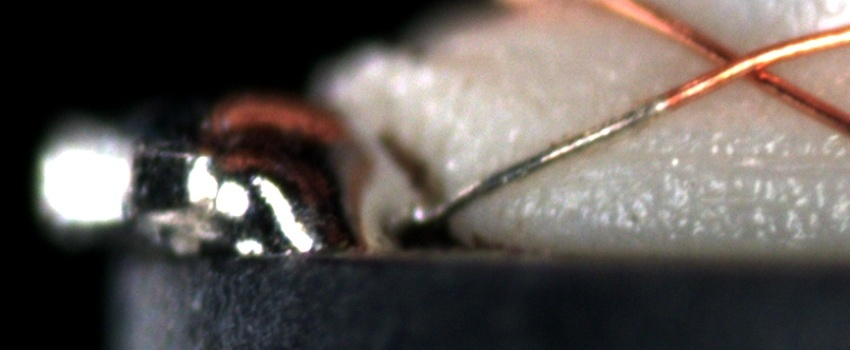CL: (695, 34, 789, 92)
DL: (602, 131, 850, 183)
TS: (431, 96, 668, 222)
